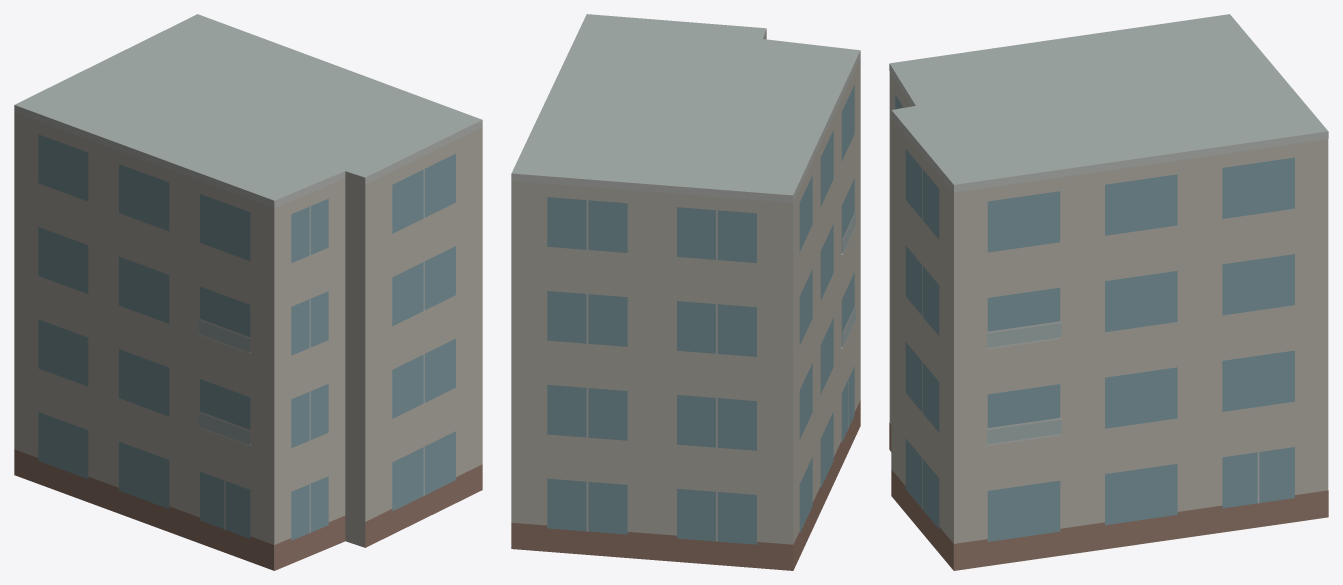
The model's file is survey-upis-32881644.glb.
The picture shows the model from 3 angles, left to right: view 1: azimuth 30°, elevation 25°; view 2: azimuth 150°, elevation 25°; view 3: azimuth 270°, elevation 25°; orthographic projection. The views are drawn at different scales.
Visible parts, largest first — view 1: survey-upis-32881644.tmp; view 2: survey-upis-32881644.tmp; view 3: survey-upis-32881644.tmp.
Boxes of the visible parts, box(x1,y1,x2,y2) form: survey-upis-32881644.tmp: box(14, 14, 482, 570); survey-upis-32881644.tmp: box(511, 14, 860, 570); survey-upis-32881644.tmp: box(889, 14, 1328, 570).
Bounding box in the file's own units: 11.79 × 12.4 × 12.79.
